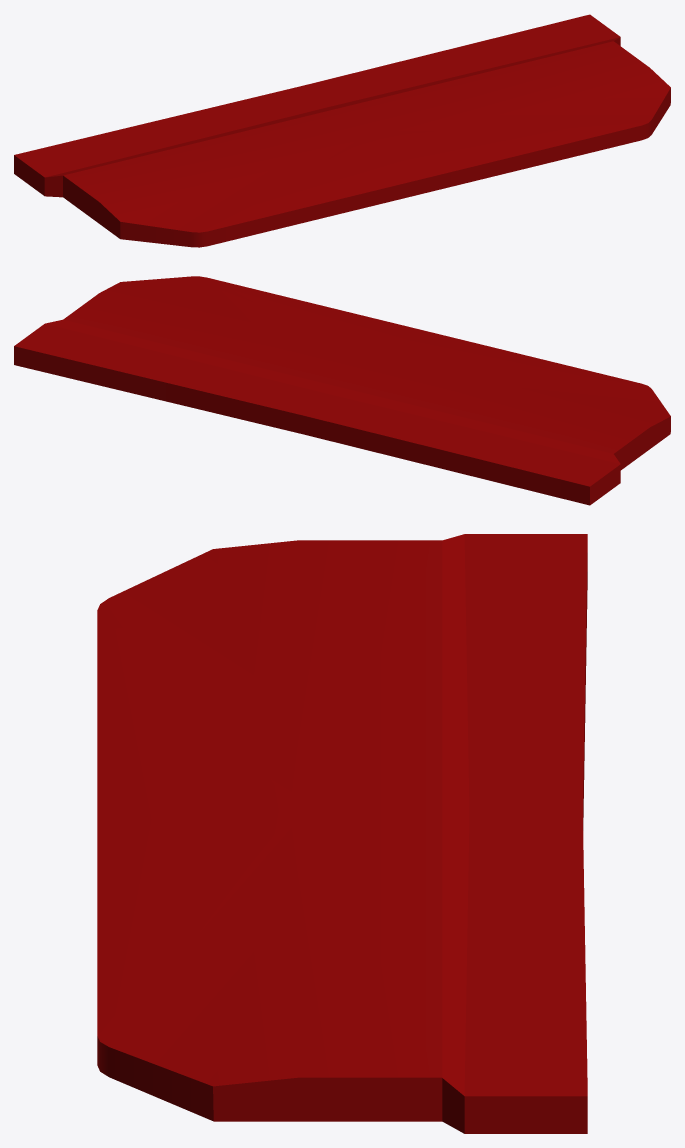
File: S_Envi_Common_Bridge_01a.gltf
The picture shows the model from 3 angles, top to bottom: view 1: azimuth 30°, elevation 25°; view 2: azimuth 150°, elevation 25°; view 3: azimuth 270°, elevation 25°; orthographic projection. The views are drawn at different scales.
Visible parts, largest first — view 1: S_Envi_Common_Bridge_01a; view 2: S_Envi_Common_Bridge_01a; view 3: S_Envi_Common_Bridge_01a.
Boxes of the visible parts, x1,y1,x2,y2 form: S_Envi_Common_Bridge_01a: (14, 14, 670, 247); S_Envi_Common_Bridge_01a: (14, 276, 670, 505); S_Envi_Common_Bridge_01a: (97, 534, 587, 1133).
Bounding box in the file's own units: 3.18 × 0.1153 × 1.17.
